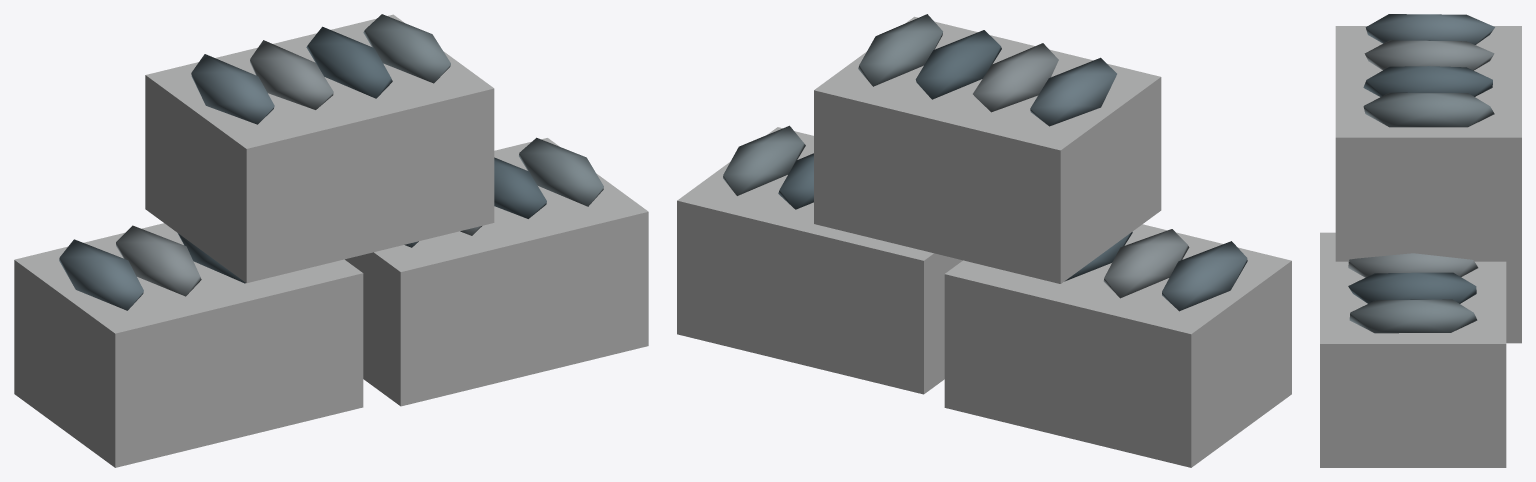
The model's file is fish_crates.glb.
3 views of the same model, side by side, from view 1: azimuth 30°, elevation 25°; view 2: azimuth 150°, elevation 25°; view 3: azimuth 270°, elevation 25° (orthographic). The views are drawn at different scales.
Parts seen in each view (by area): view 1: fish_crates; view 2: fish_crates; view 3: fish_crates.
Boxes of the visible parts, box(x1,y1,x2,y2) form: fish_crates: box(14, 14, 648, 467); fish_crates: box(677, 14, 1291, 467); fish_crates: box(1320, 14, 1521, 467).
Bounding box in the file's own units: 1.8 × 1.04 × 0.65.
